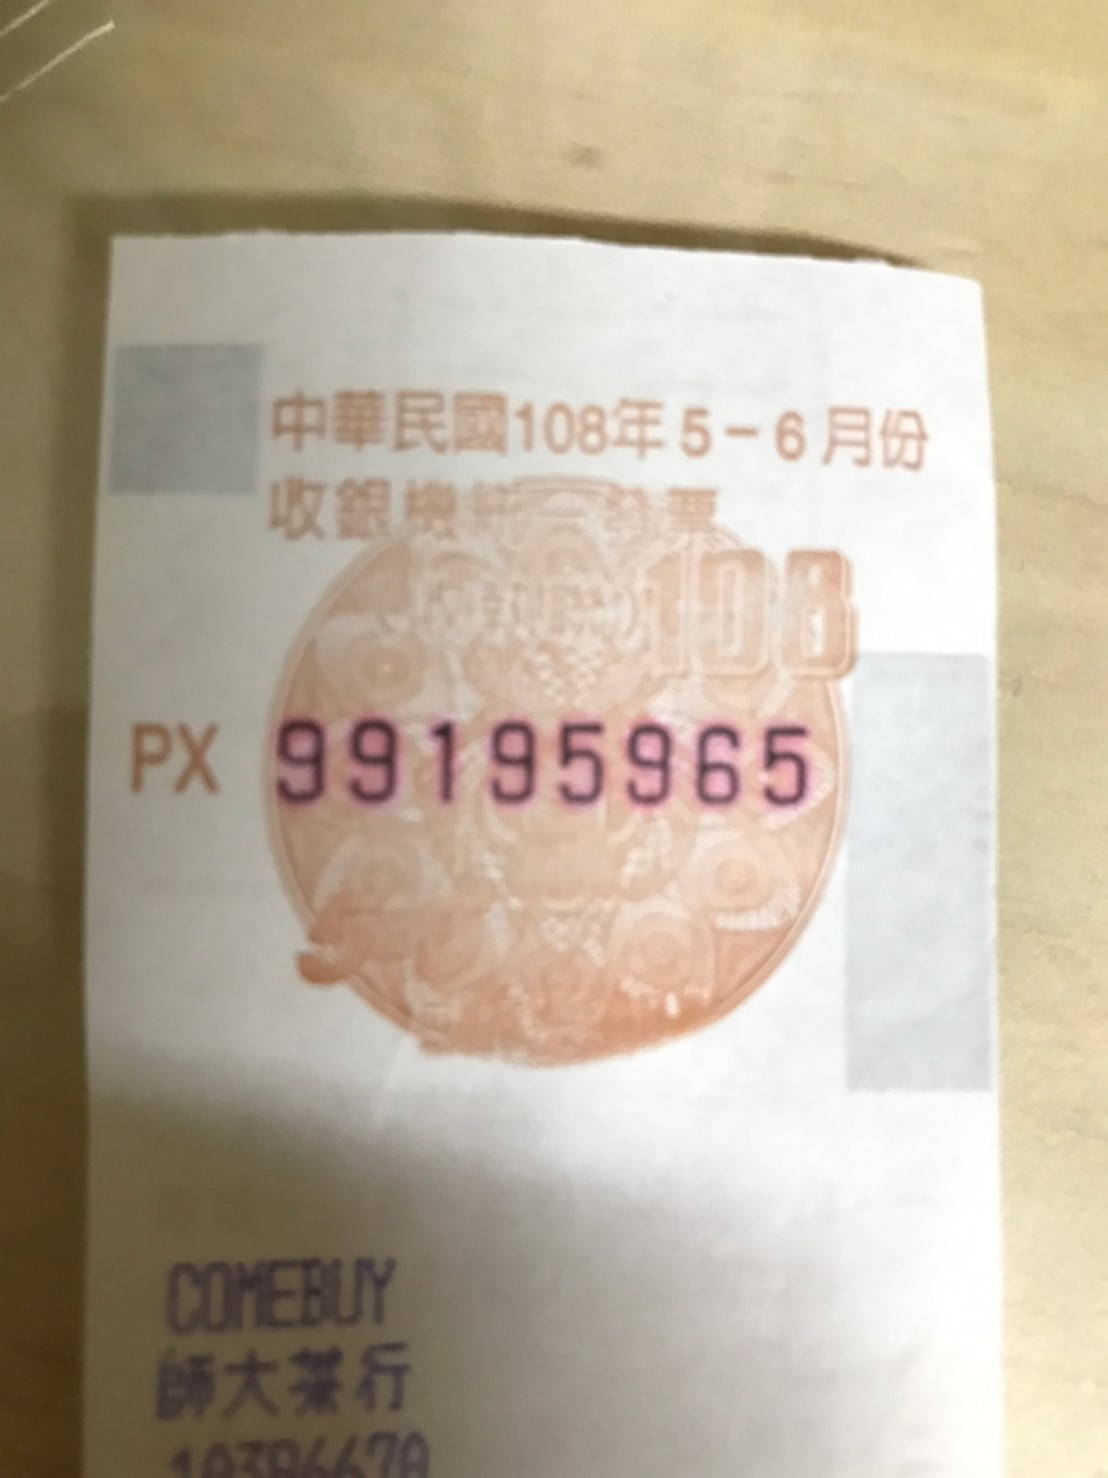Date_Old: (514, 388, 939, 474)
Number_Old: (276, 708, 818, 812)
